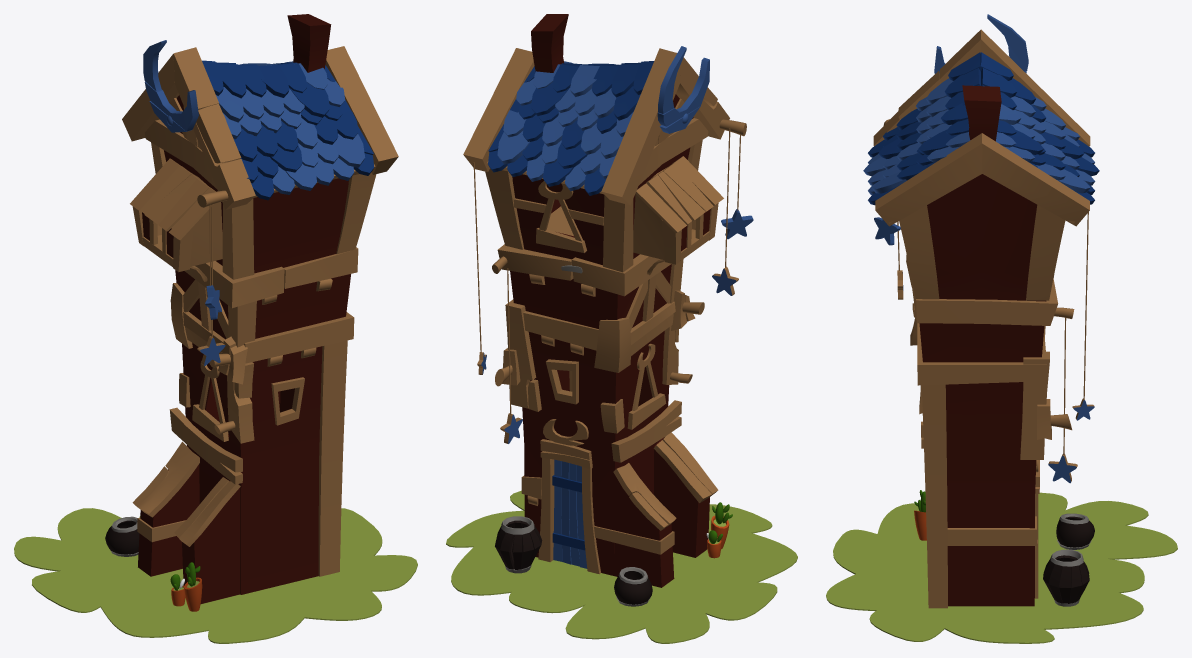
Rendered from house_draft.fbx.
3 renders of one model, left to right at view 1: azimuth 30°, elevation 25°; view 2: azimuth 150°, elevation 25°; view 3: azimuth 270°, elevation 25°, orthographic. The views are drawn at different scales.
Visible parts, largest first — view 1: Box001, Line005, Box074, Box024, Box003, Box007, Box026, Box006, Box004, Box030, Circle001, Box068 (+27 smaller); view 2: Line005, Box001, Box025, Box003, Box007, Box006, Box027, Shape001, Box013, Circle001, Box028, Box002 (+39 smaller); view 3: Box001, Line005, Box074, Box026, Box027, Box003, Box004, Box046, Box073, Box013, Box011, Box024 (+9 smaller).
Part boxes in pixels (<box>): Box001: <box>164,95,350,594</box>; Line005: <box>14,508,417,643</box>; Box074: <box>318,340,347,576</box>; Box024: <box>173,47,255,209</box>; Box003: <box>184,247,358,308</box>; Box007: <box>182,480,240,603</box>; Box026: <box>325,46,398,174</box>; Box006: <box>138,446,199,576</box>; Box004: <box>244,312,354,363</box>; Box030: <box>222,198,254,279</box>; Circle001: <box>143,40,198,132</box>; Box068: <box>132,441,199,517</box>; Line005: <box>446,490,797,643</box>; Box001: <box>510,94,693,575</box>; Box025: <box>601,48,680,205</box>; Box003: <box>497,206,671,296</box>; Box007: <box>654,437,709,557</box>; Box006: <box>614,475,674,587</box>; Box027: <box>463,48,534,172</box>; Shape001: <box>553,459,587,568</box>; Box013: <box>505,299,541,411</box>; Circle001: <box>657,46,709,133</box>; Box028: <box>603,195,633,272</box>; Box002: <box>633,167,710,259</box>; Box001: <box>919,174,1046,606</box>; Line005: <box>826,492,1177,643</box>; Box074: <box>921,384,947,608</box>; Box026: <box>875,133,982,226</box>; Box027: <box>982,133,1089,226</box>; Box003: <box>906,255,1058,325</box>; Box004: <box>917,323,1046,385</box>; Box046: <box>1026,205,1065,300</box>; Box073: <box>899,205,939,299</box>; Box013: <box>1020,351,1049,459</box>; Box011: <box>962,85,1001,141</box>; Box024: <box>873,30,981,146</box>.
Size of the model in its own units: 581 by 949 by 575.
